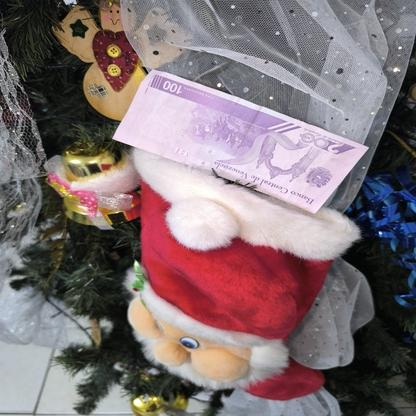one_hundred-back-vef: (112, 68, 370, 215)
